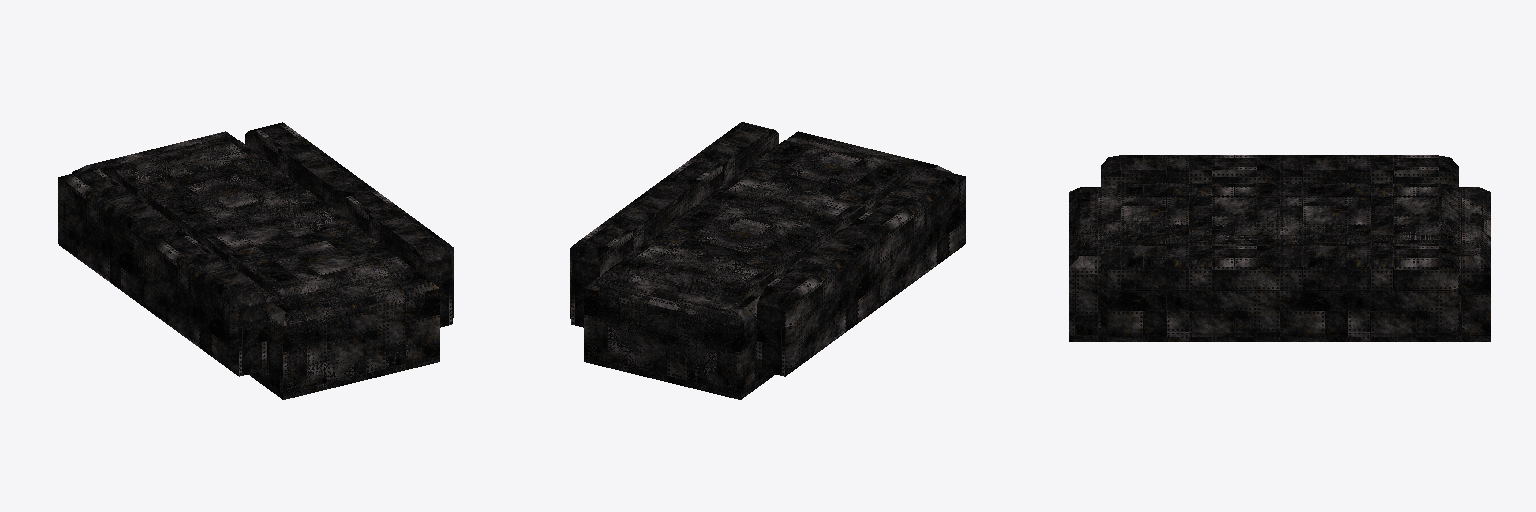
3 renders of one model, left to right at view 1: azimuth 30°, elevation 25°; view 2: azimuth 150°, elevation 25°; view 3: azimuth 270°, elevation 25°, orthographic.
Parts seen in each view (by area): view 1: baza_Black_rusty_plate_with_rivets; view 2: baza_Black_rusty_plate_with_rivets; view 3: baza_Black_rusty_plate_with_rivets.
Boxes of the visible parts, <box> form: baza_Black_rusty_plate_with_rivets: <box>58,122,453,399</box>; baza_Black_rusty_plate_with_rivets: <box>570,122,965,399</box>; baza_Black_rusty_plate_with_rivets: <box>1069,155,1490,341</box>.
Size of the model in its own units: 1.43 by 0.5826 by 2.32.
Materials: 1 (1 with a texture image).